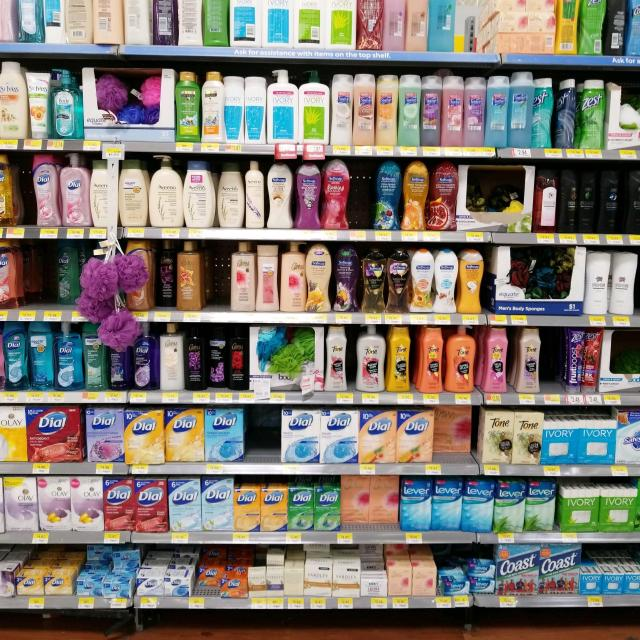empty_space: (205, 243, 229, 305), (28, 250, 56, 303), (249, 413, 277, 457), (17, 161, 34, 222), (358, 161, 374, 225), (544, 338, 558, 385)
